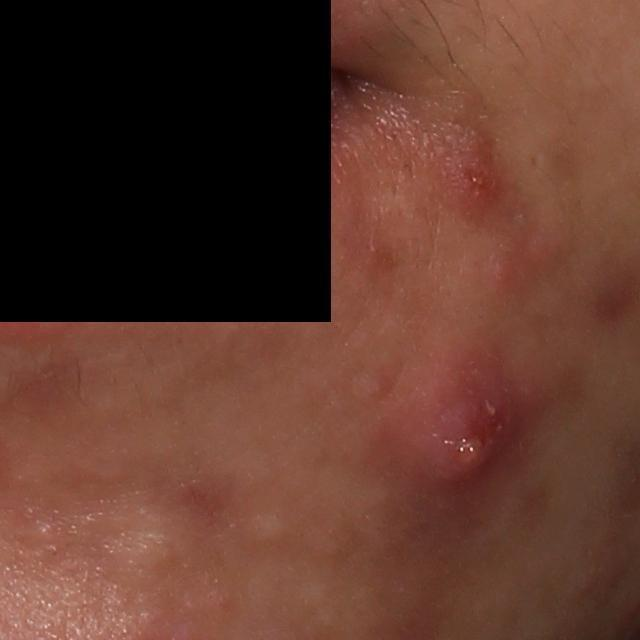hypertrophic_scar: (103, 493, 182, 581), (246, 512, 288, 549)
nodule: (366, 345, 537, 534)
papule: (440, 144, 505, 218)
